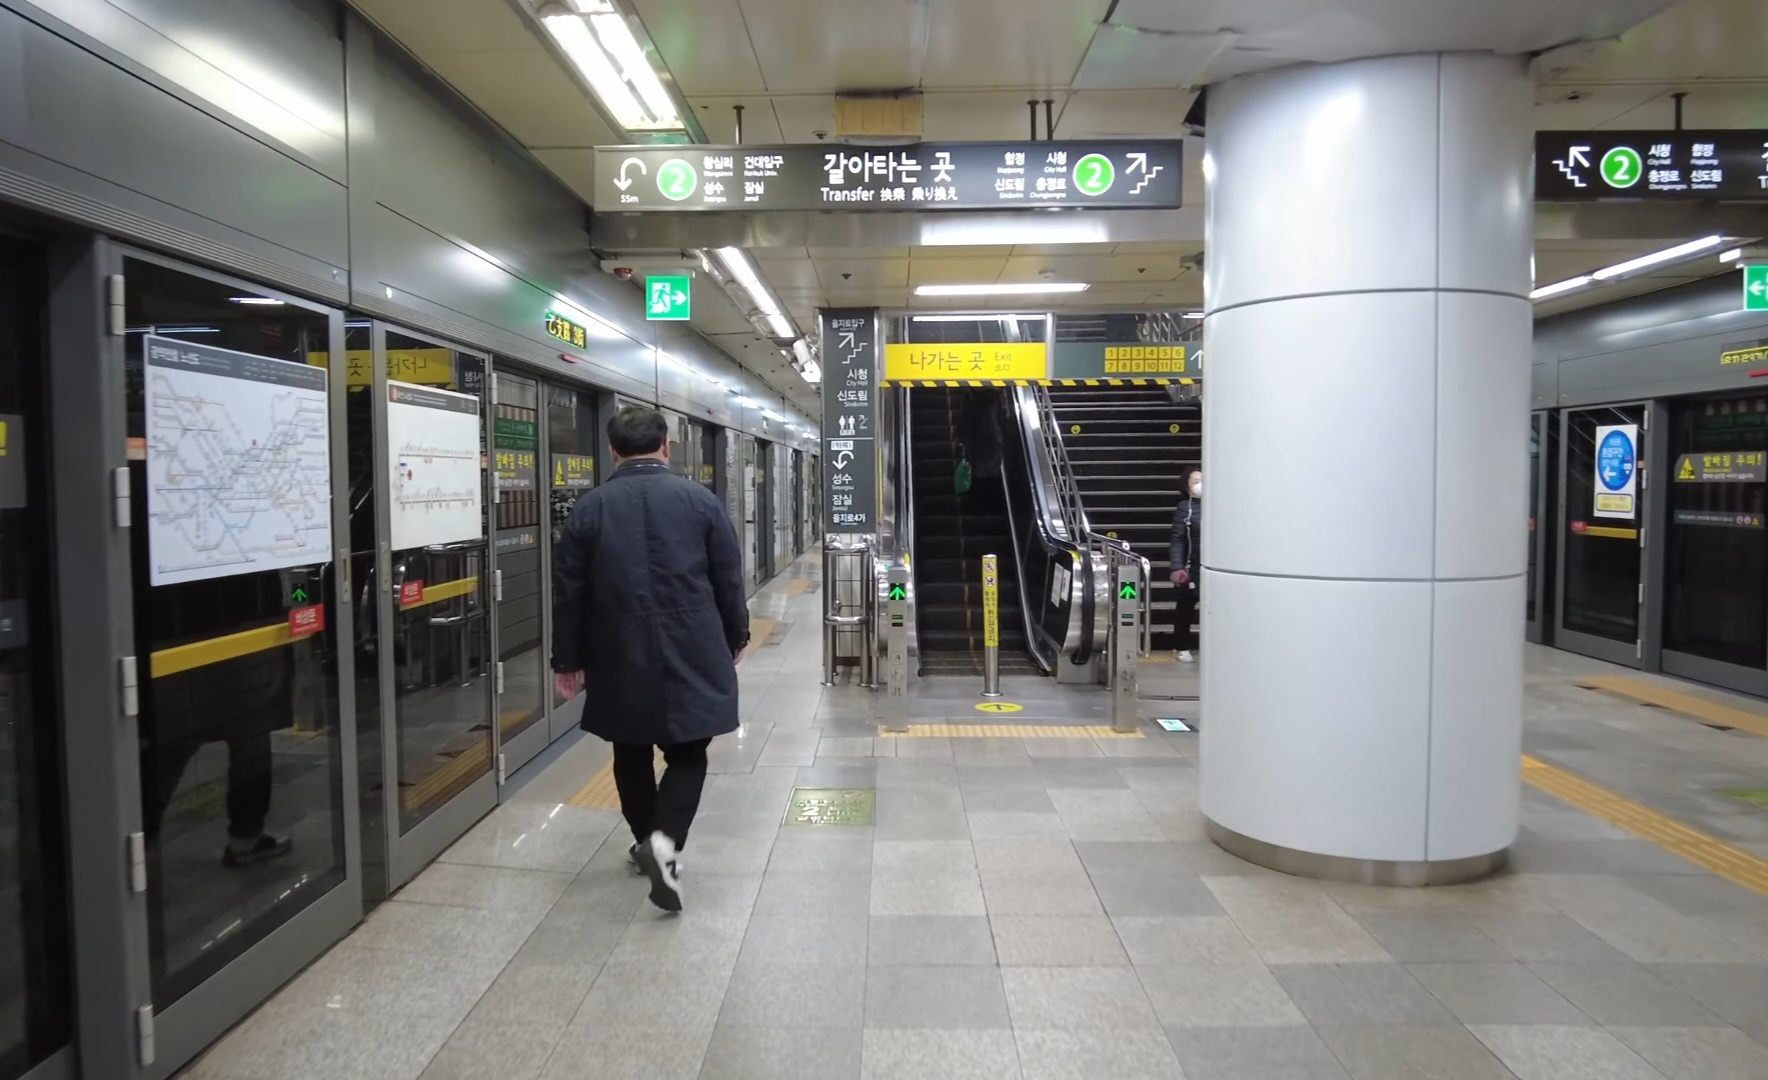signBoard: (586, 121, 1186, 220)
